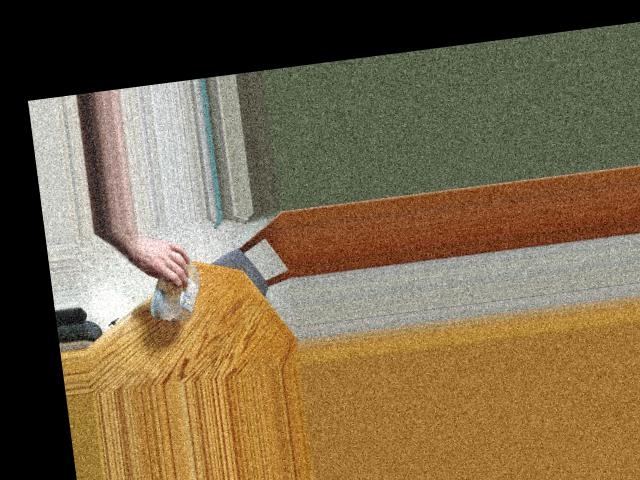cheese: (152, 260, 200, 317)
